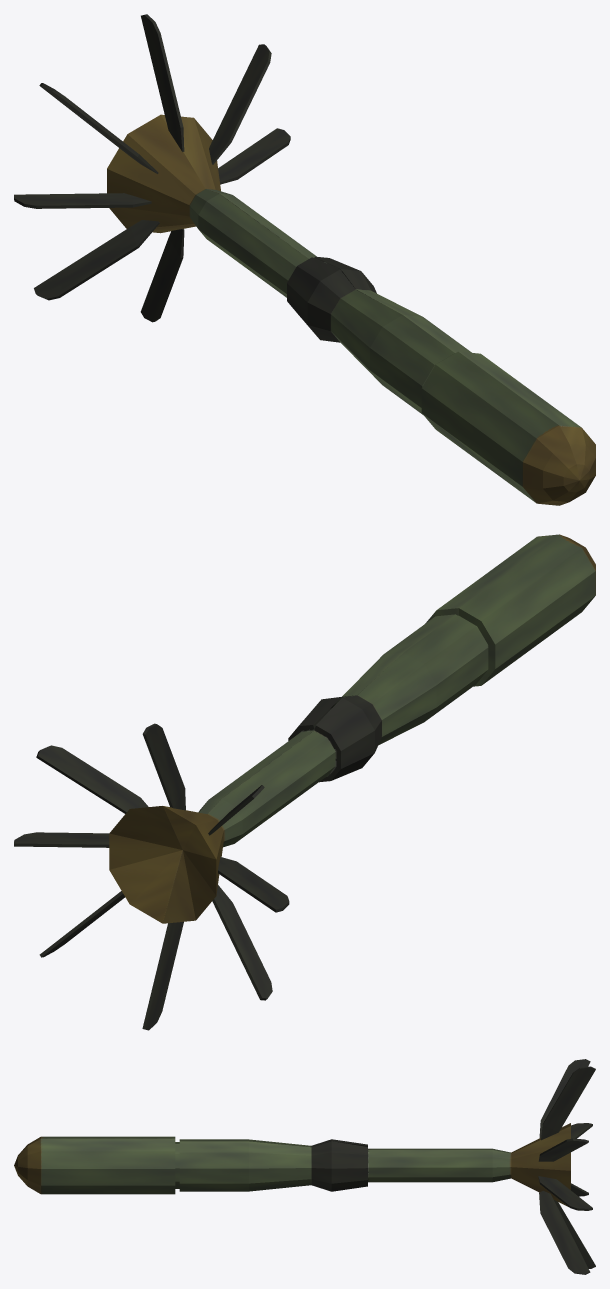
Rendered from rakieta.obj.
3 renders of one model, top to bottom at view 1: azimuth 30°, elevation 25°; view 2: azimuth 150°, elevation 25°; view 3: azimuth 270°, elevation 25°, orthographic. The views are drawn at different scales.
Visible parts, largest first — view 1: Cylinder; view 2: Cylinder; view 3: Cylinder.
Part boxes in pixels (x1,y1,x2,y2): Cylinder: (14,14,595,505); Cylinder: (14,534,595,1030); Cylinder: (14,1059,595,1274).
Bounding box in the file's own units: 4.72 × 5.07 × 13.25.
